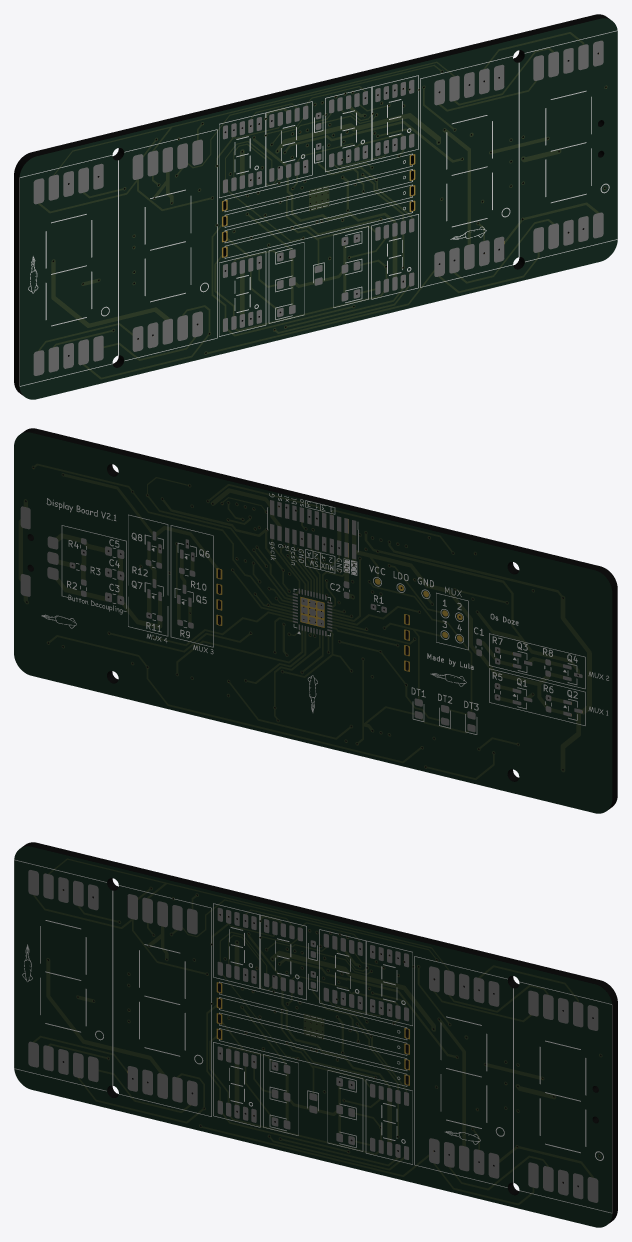
The model's file is display-board-big-v1.0-bare.glb.
3 renders of one model, top to bottom at view 1: azimuth 30°, elevation 25°; view 2: azimuth 150°, elevation 25°; view 3: azimuth 330°, elevation 25°, orthographic.
Parts seen in each view (by area): view 1: SHAPE_5, SHAPE_1, SHAPE_4, SHAPE_9, SHAPE_3; view 2: SHAPE_5, SHAPE_1, SHAPE_3, SHAPE_9, SHAPE_4; view 3: SHAPE_5, SHAPE_1, SHAPE_4, SHAPE_9, SHAPE_3.
Part boxes in pixels (box(x1,y1,x2,y2)): SHAPE_5: box(19, 18, 617, 399); SHAPE_1: box(14, 14, 616, 398); SHAPE_4: box(33, 40, 603, 375); SHAPE_9: box(19, 30, 617, 386); SHAPE_3: box(38, 32, 606, 378); SHAPE_5: box(14, 432, 612, 813); SHAPE_1: box(14, 428, 617, 812); SHAPE_3: box(19, 464, 591, 779); SHAPE_9: box(41, 493, 608, 734); SHAPE_4: box(20, 500, 582, 732); SHAPE_5: box(14, 846, 612, 1227); SHAPE_1: box(15, 842, 617, 1226); SHAPE_4: box(28, 870, 598, 1202); SHAPE_9: box(14, 859, 612, 1213); SHAPE_3: box(33, 859, 599, 1204).
Bounding box in the file's own units: 0.102 × 0.0396 × 0.00175.
